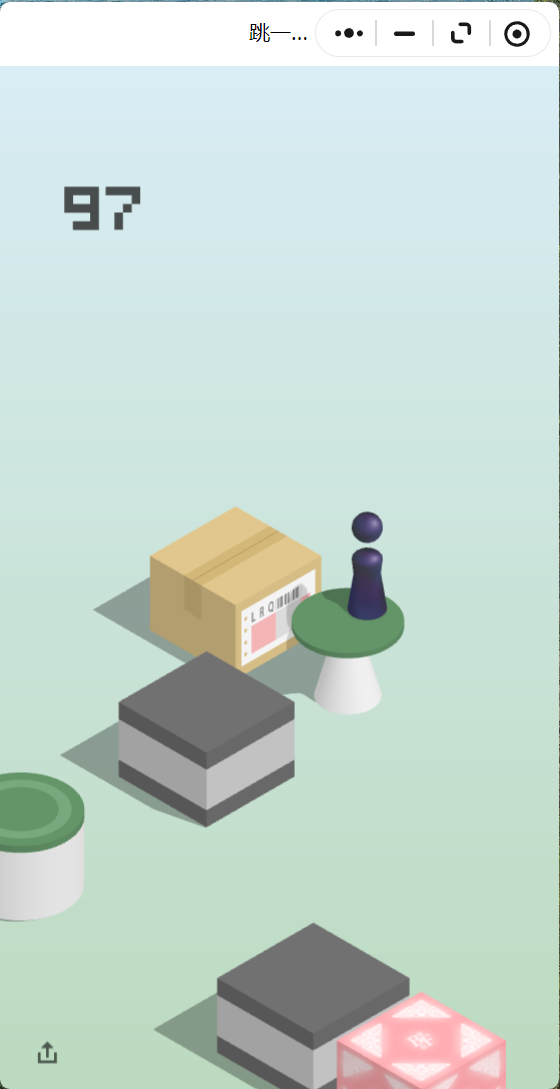piece: (351, 512, 383, 616)
target: (151, 507, 321, 606)
